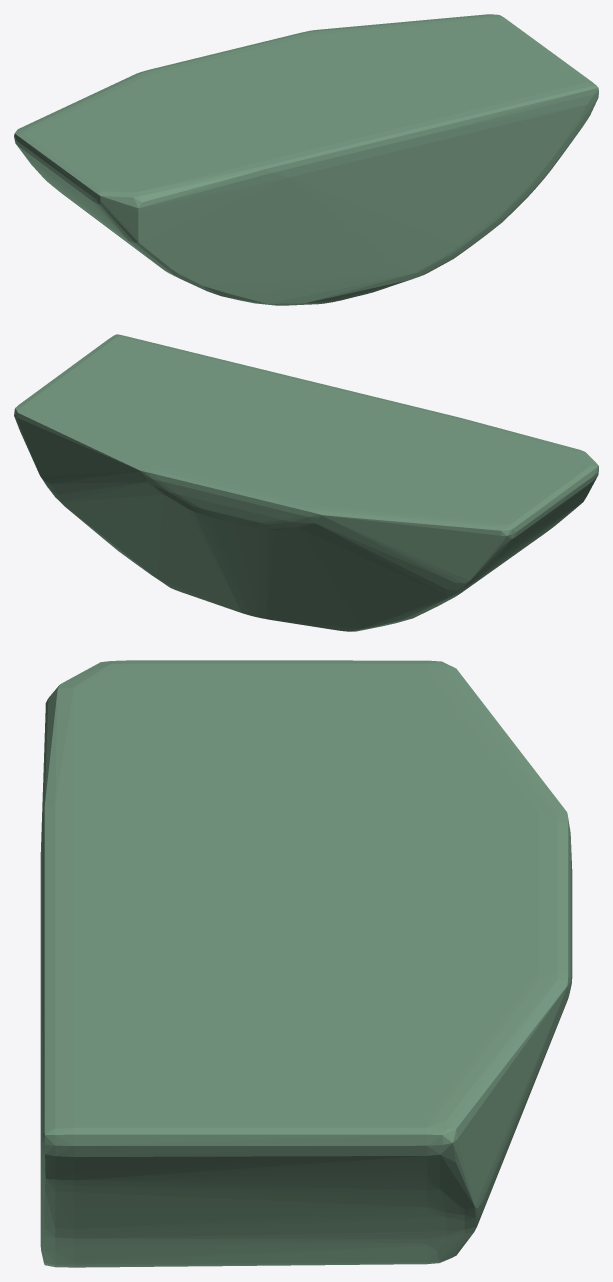
Rendered from right_shoulder_roll_link_part_0.obj.
3 views of the same model, one above another, from view 1: azimuth 30°, elevation 25°; view 2: azimuth 150°, elevation 25°; view 3: azimuth 270°, elevation 25° (orthographic). The views are drawn at different scales.
Bounding box in the file's own units: 0.0842 × 0.0256 × 0.0397.
